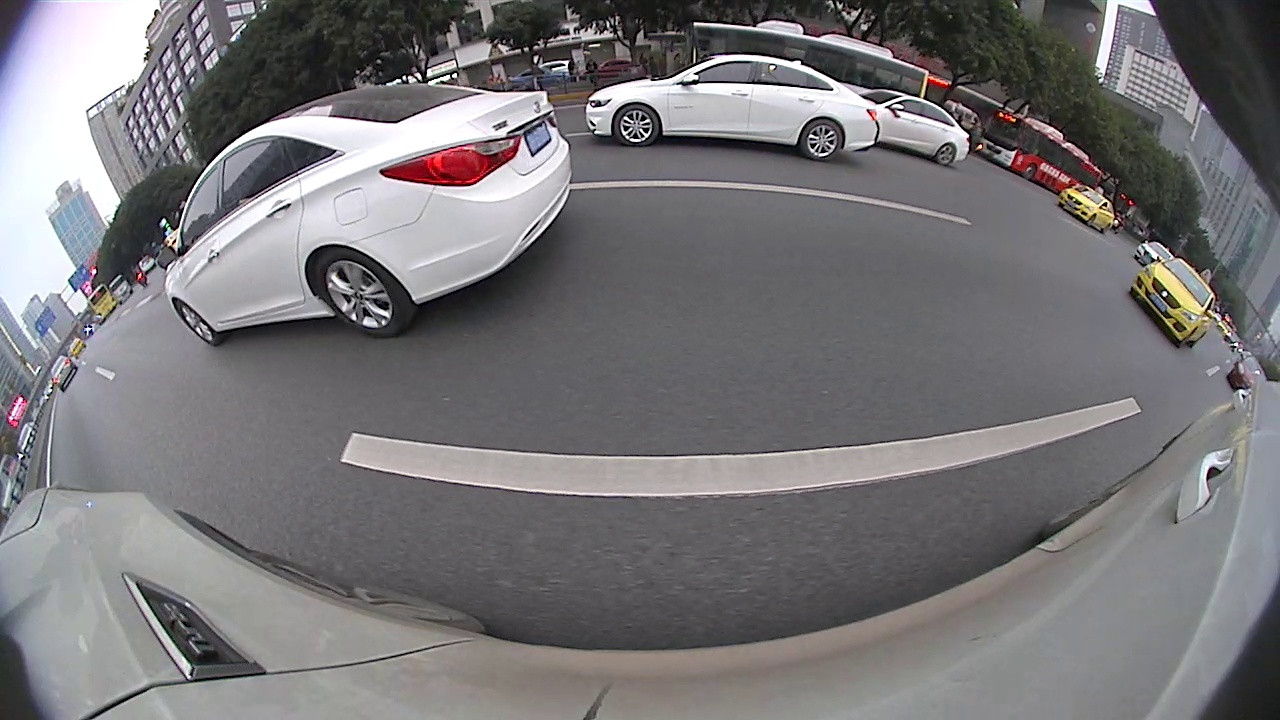car: (2, 119, 433, 523), (862, 126, 1279, 478), (449, 153, 543, 219), (583, 145, 660, 208), (801, 163, 891, 214), (706, 151, 781, 200)
front: (865, 197, 918, 267), (379, 208, 424, 273), (797, 181, 808, 202)
rear: (1128, 332, 1251, 482), (33, 373, 155, 522), (842, 187, 858, 212), (507, 183, 521, 211), (717, 177, 728, 195)
